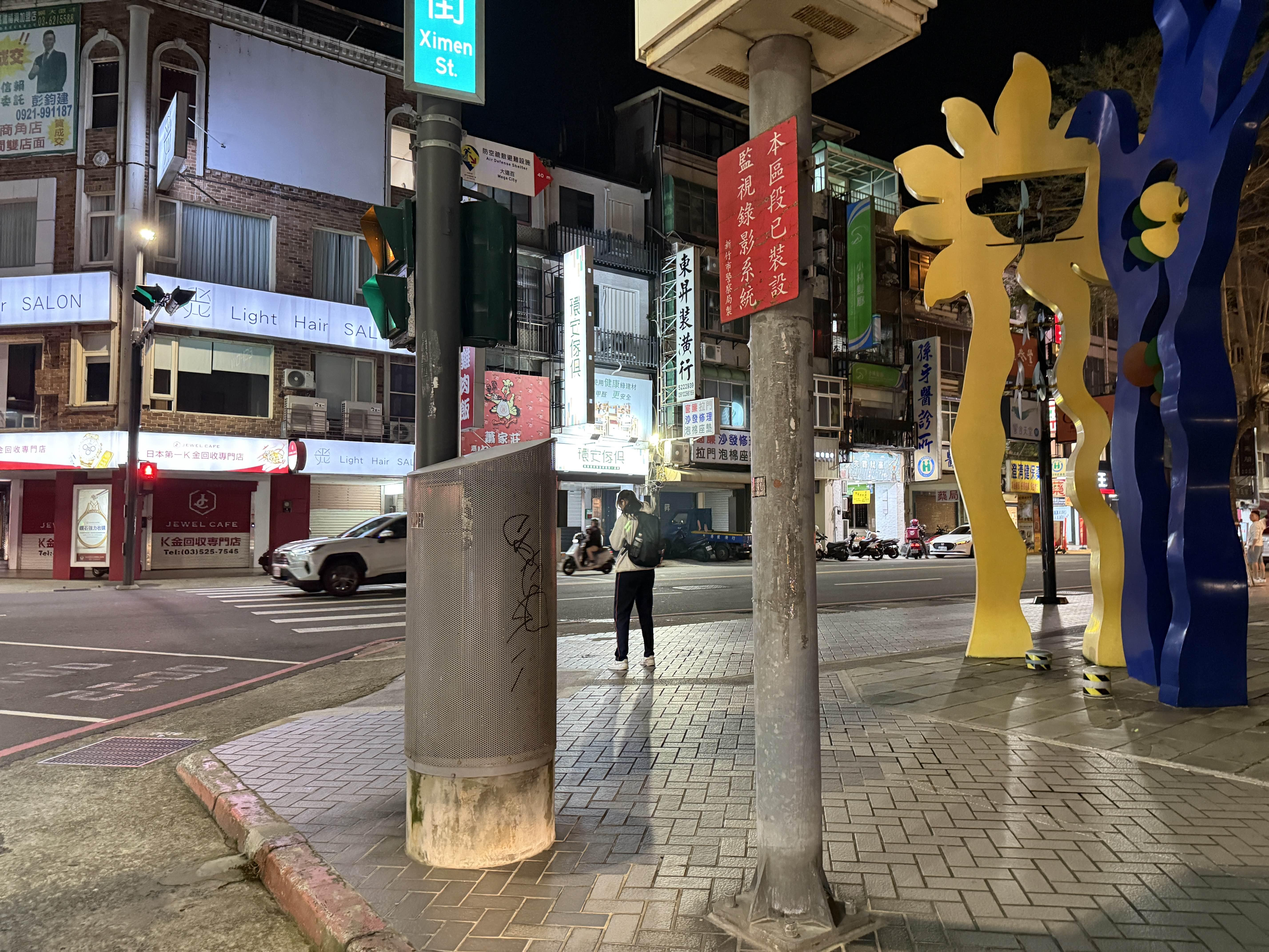NoHelmet: (617, 489, 640, 511)
